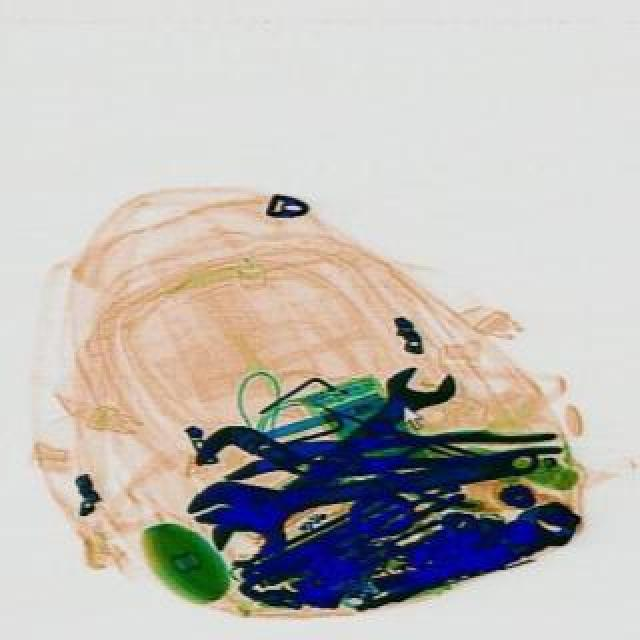scissors: (202, 346, 462, 576), (178, 434, 542, 540)
